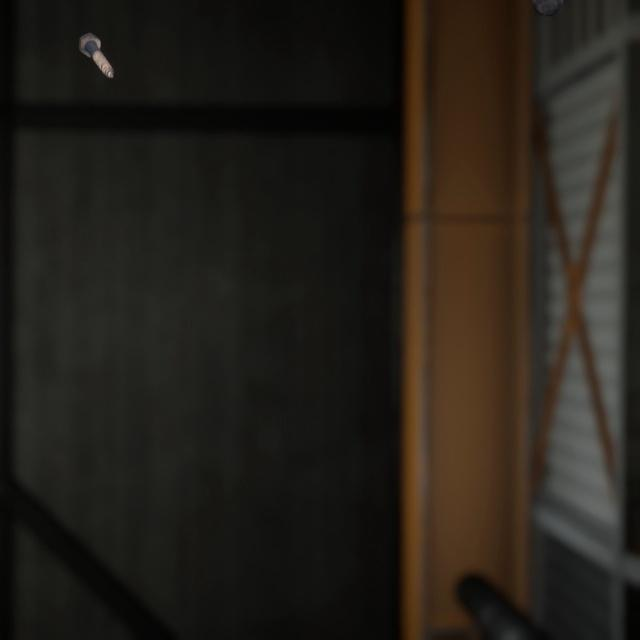bolt: (74, 19, 118, 72)
